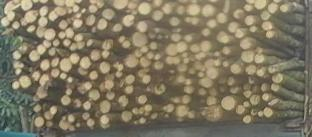large: (202, 105, 222, 123), (4, 0, 22, 15)
medium: (222, 96, 237, 111), (133, 32, 147, 46), (60, 58, 73, 73), (165, 43, 178, 56), (125, 55, 138, 68), (114, 0, 130, 10), (25, 10, 37, 23), (241, 51, 254, 63), (138, 3, 150, 15), (122, 15, 134, 27), (80, 56, 91, 69), (202, 5, 215, 16), (187, 5, 200, 16), (45, 28, 56, 40), (103, 8, 114, 20), (20, 76, 31, 88), (161, 3, 172, 15), (217, 32, 229, 43), (37, 87, 48, 99), (202, 77, 213, 88), (141, 56, 152, 67), (239, 38, 250, 49), (177, 106, 188, 117), (103, 39, 114, 50), (69, 53, 79, 65), (90, 51, 102, 61), (100, 102, 110, 114), (59, 121, 71, 131), (100, 62, 110, 73), (177, 42, 187, 53), (207, 68, 218, 78), (169, 16, 180, 26), (97, 19, 107, 30), (89, 90, 99, 101), (37, 27, 47, 38), (29, 51, 40, 61), (250, 94, 260, 105), (40, 74, 49, 86), (273, 73, 283, 83), (122, 111, 132, 121), (228, 23, 238, 33), (153, 11, 163, 21), (113, 23, 123, 33), (204, 59, 214, 69), (202, 41, 211, 52), (41, 60, 50, 71), (55, 7, 66, 16), (137, 96, 147, 105), (271, 82, 280, 92), (138, 22, 147, 32), (268, 3, 277, 13), (206, 20, 216, 29), (217, 13, 227, 22), (35, 117, 44, 127), (119, 96, 128, 106), (49, 11, 58, 21), (245, 15, 253, 26), (87, 15, 95, 26), (182, 95, 191, 104), (231, 65, 240, 74), (90, 71, 99, 80), (261, 11, 270, 20), (62, 96, 71, 105), (100, 115, 109, 124), (37, 45, 46, 54), (247, 66, 256, 75), (262, 22, 272, 30), (222, 46, 230, 56), (88, 5, 98, 13), (177, 64, 187, 72), (264, 108, 272, 117), (143, 75, 151, 84), (126, 75, 135, 83), (255, 55, 264, 63), (172, 55, 180, 64), (155, 61, 164, 69), (125, 85, 133, 94), (107, 91, 115, 100), (66, 29, 74, 38), (39, 18, 48, 26), (59, 20, 67, 29), (1, 18, 10, 26), (32, 72, 40, 81), (207, 97, 216, 105), (177, 76, 186, 84), (191, 45, 201, 52), (40, 6, 47, 16), (184, 86, 194, 93), (105, 80, 113, 88), (202, 28, 210, 36), (74, 20, 82, 28), (84, 102, 92, 110), (27, 25, 35, 33), (13, 51, 21, 59), (236, 30, 244, 38), (199, 88, 207, 96), (191, 17, 199, 25), (237, 105, 244, 114), (74, 34, 83, 41), (52, 69, 59, 78), (13, 81, 20, 90), (52, 58, 59, 67), (8, 11, 15, 20), (243, 116, 251, 123), (153, 54, 161, 61), (122, 41, 130, 48), (85, 82, 92, 90), (166, 105, 174, 112), (63, 39, 71, 46), (77, 41, 85, 48), (266, 31, 274, 38), (172, 34, 180, 41), (150, 42, 157, 50), (177, 6, 184, 14), (244, 91, 252, 98), (185, 78, 193, 85), (59, 73, 67, 80), (214, 59, 221, 67), (244, 5, 253, 11), (248, 76, 254, 85), (166, 57, 173, 64), (88, 119, 95, 126), (263, 94, 270, 101), (83, 113, 90, 120), (50, 107, 57, 114), (209, 89, 216, 96), (116, 71, 123, 78), (49, 48, 55, 56), (21, 18, 27, 26), (74, 5, 80, 13), (230, 87, 238, 93), (103, 51, 109, 58), (118, 36, 125, 42), (59, 32, 65, 39), (281, 5, 287, 12), (53, 40, 60, 46), (185, 36, 192, 42), (13, 22, 19, 29), (145, 105, 152, 111), (244, 83, 250, 90), (35, 105, 41, 112), (71, 42, 76, 50), (148, 52, 154, 58), (68, 115, 74, 121), (46, 121, 52, 127), (189, 69, 195, 75), (228, 78, 233, 85), (140, 108, 145, 115), (118, 64, 123, 71), (262, 84, 266, 92), (87, 40, 92, 46), (258, 70, 263, 76), (133, 108, 138, 114), (152, 113, 157, 119), (140, 118, 146, 123), (76, 12, 81, 18), (16, 69, 21, 74)
small: (135, 49, 142, 57), (141, 47, 148, 53), (66, 89, 72, 95), (92, 27, 97, 33), (250, 27, 255, 33), (244, 102, 249, 108), (223, 62, 228, 67), (184, 58, 189, 63), (198, 72, 203, 77), (186, 17, 191, 22), (70, 126, 74, 131), (69, 77, 73, 82), (68, 9, 72, 14), (62, 116, 66, 121), (215, 52, 219, 56), (259, 112, 263, 116), (76, 123, 80, 127), (145, 112, 149, 116), (183, 53, 187, 57), (166, 35, 169, 39), (82, 9, 85, 13), (165, 115, 169, 117)
